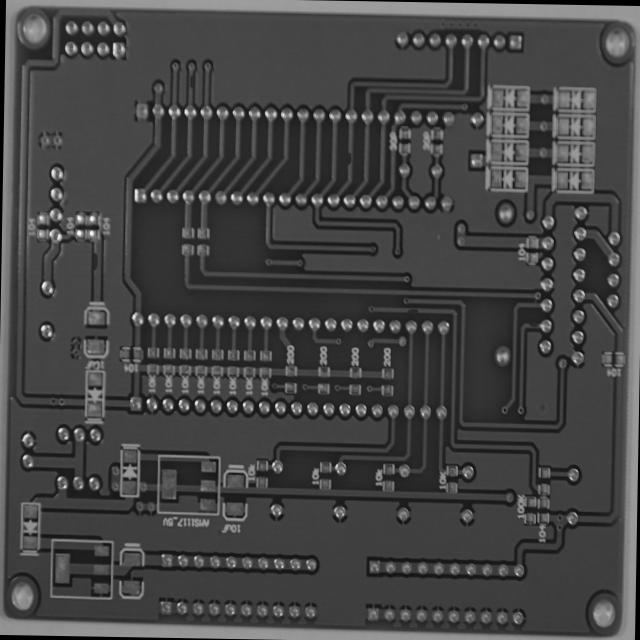mouse_bite: (90, 248, 100, 275), (344, 148, 356, 168), (403, 304, 421, 316), (187, 72, 196, 93), (525, 318, 540, 330)
